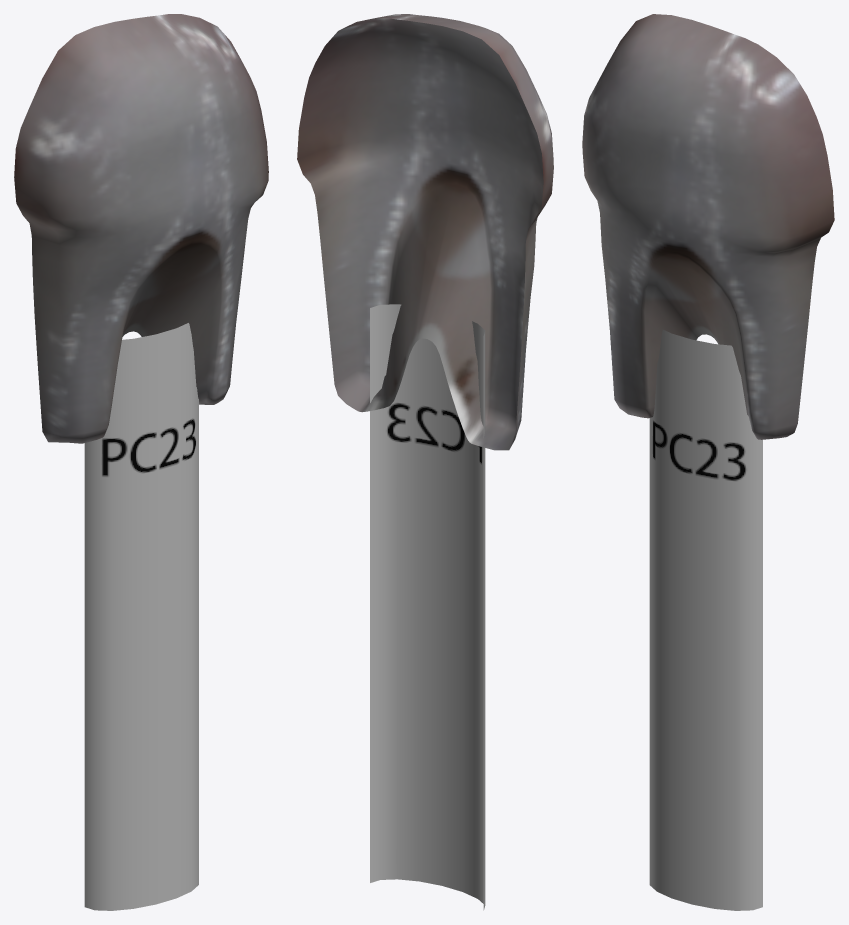
The picture shows the model from 3 angles, left to right: view 1: azimuth 30°, elevation 25°; view 2: azimuth 150°, elevation 25°; view 3: azimuth 330°, elevation 25°; orthographic projection.
Parts seen in each view (by area): view 1: Tab; view 2: Tab; view 3: Tab.
Boxes of the visible parts, box(x1,y1,x2,y2) form: Tab: box(14, 14, 268, 910); Tab: box(297, 14, 553, 910); Tab: box(582, 14, 834, 910).
Bounding box in the file's own units: 0.00834 × 0.0285 × 0.00291.
1 material, 1 textured.
